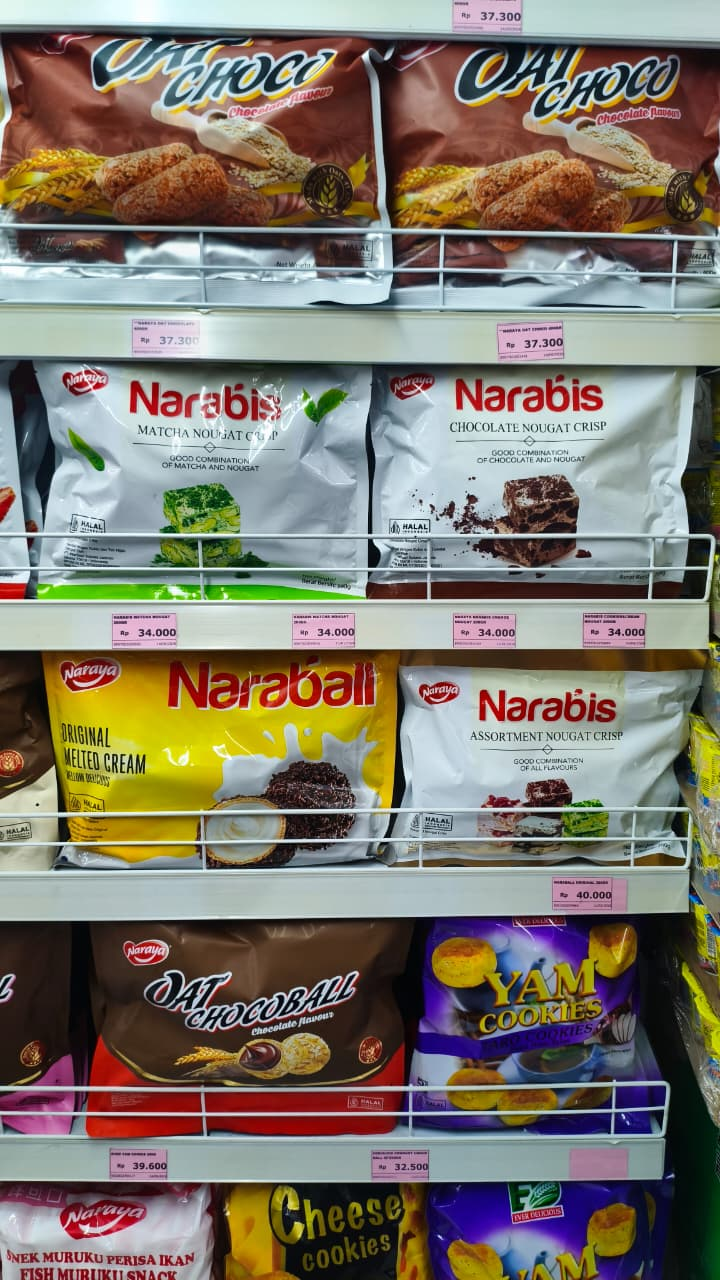Narabali: (144, 642, 397, 867)
Narabis: (415, 358, 651, 575), (436, 666, 672, 883)
Oat chocoball: (127, 943, 390, 1143)
Yam cookies: (438, 938, 658, 1103)
